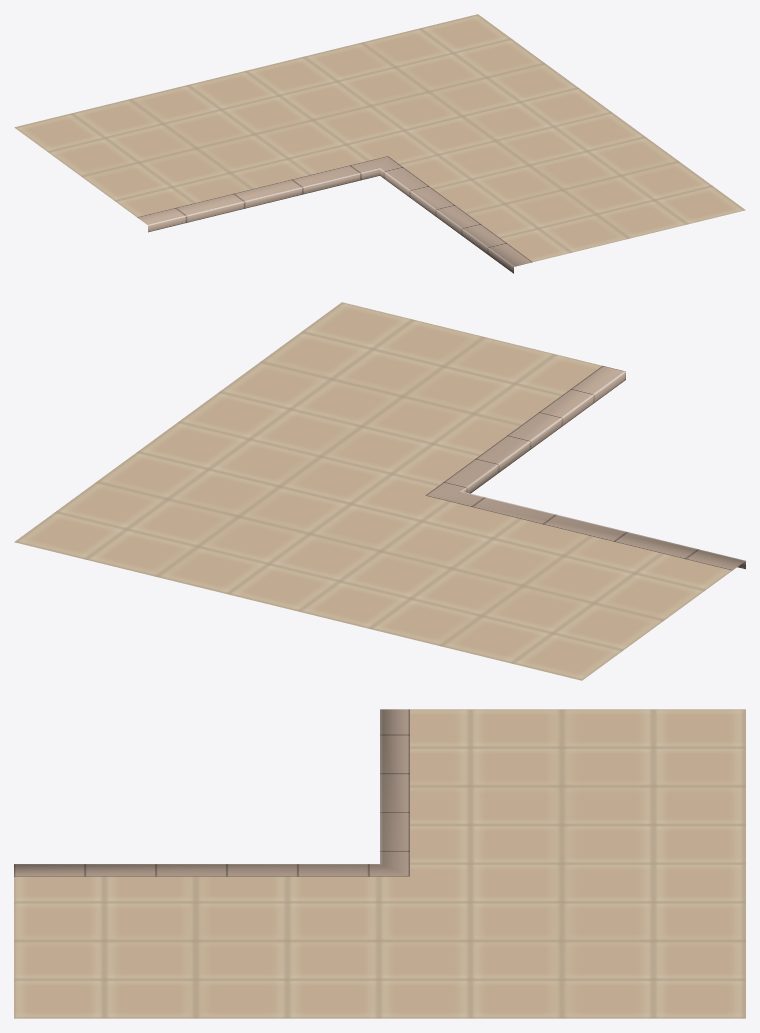
The model's file is Sidewalk_Inner_Corner.fbx.
The picture shows the model from 3 angles, top to bottom: view 1: azimuth 30°, elevation 25°; view 2: azimuth 150°, elevation 25°; view 3: azimuth 270°, elevation 25°; orthographic projection. The views are drawn at different scales.
Visible parts, largest first — view 1: Sidewalk_Inner_Corner; view 2: Sidewalk_Inner_Corner; view 3: Sidewalk_Inner_Corner.
Boxes of the visible parts, bbox=[...] form: Sidewalk_Inner_Corner: bbox=[14, 14, 745, 273]; Sidewalk_Inner_Corner: bbox=[14, 302, 745, 680]; Sidewalk_Inner_Corner: bbox=[14, 709, 745, 1018].
Bounding box in the file's own units: 800 × 11.49 × 800.
